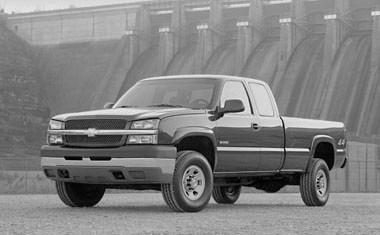car: (39, 73, 352, 216)
